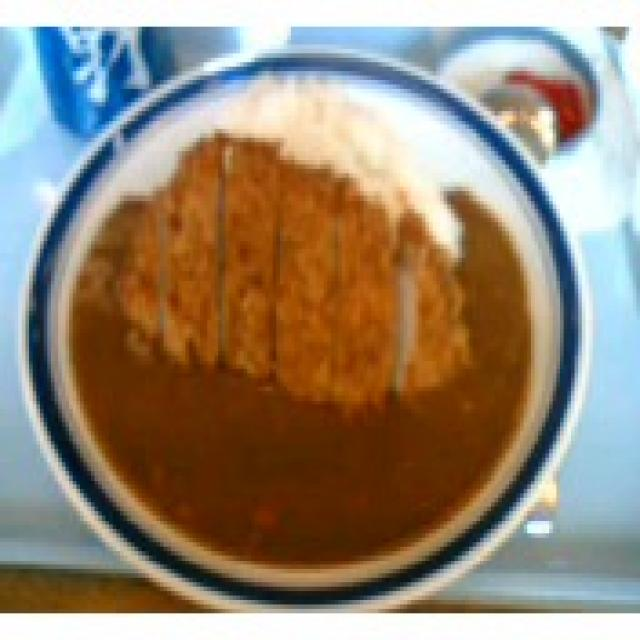猪肉菜式: (0, 27, 600, 600)
